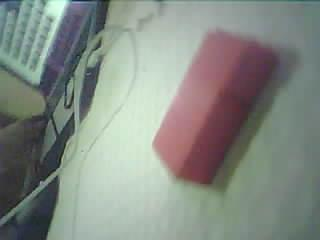lego: (151, 27, 279, 184)
